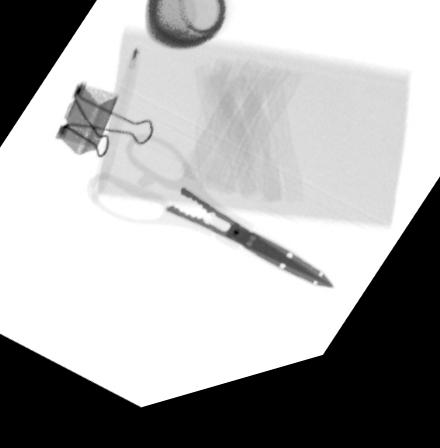Scissors: (84, 138, 332, 305)
